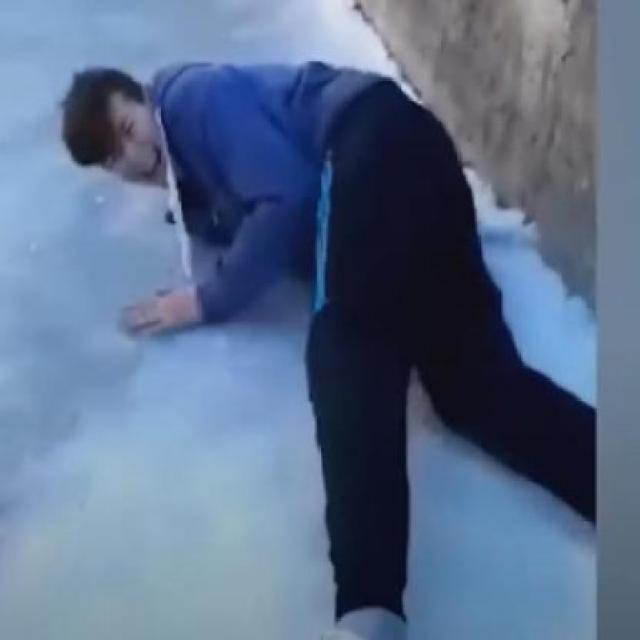fall: (62, 56, 596, 639)
